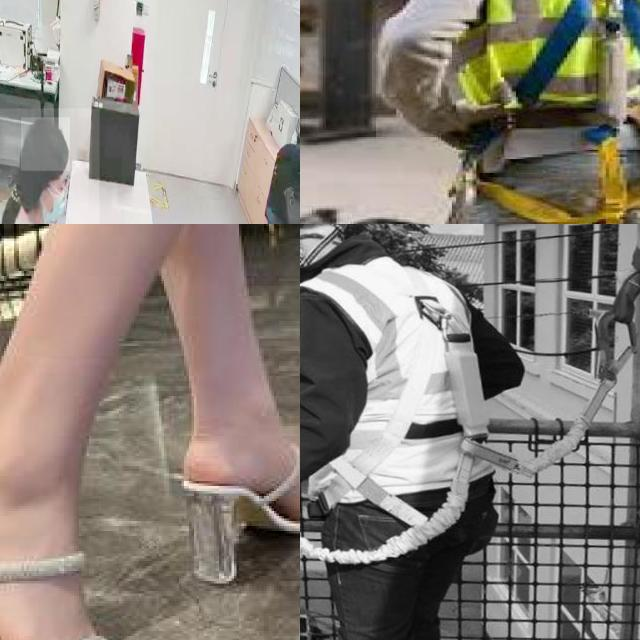Harness: (404, 275, 638, 549), (456, 0, 640, 224)
Sandals: (0, 401, 151, 640), (178, 372, 300, 591)
face_mask: (33, 172, 72, 224)
head_nohelmet: (21, 118, 71, 172)
person: (0, 108, 99, 224)
